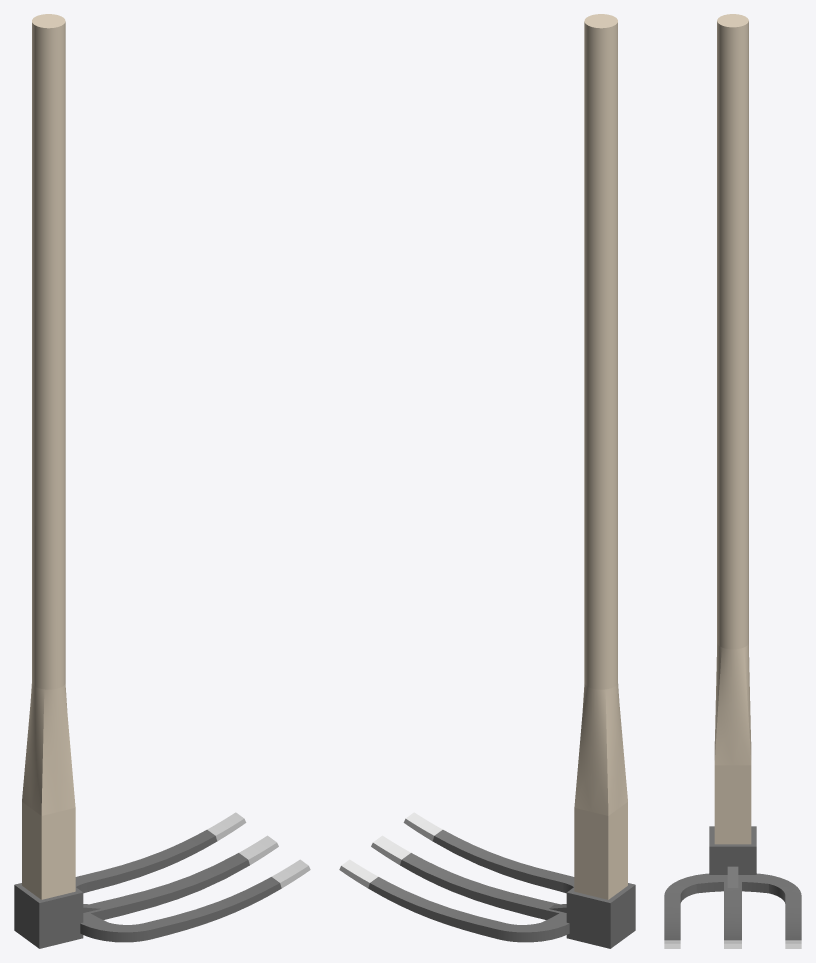
Rendered from 963_hoe_bicchu.glb.
The picture shows the model from 3 angles, left to right: view 1: azimuth 30°, elevation 25°; view 2: azimuth 150°, elevation 25°; view 3: azimuth 270°, elevation 25°; orthographic projection. The views are drawn at different scales.
Visible parts, largest first — view 1: Body5; view 2: Body5; view 3: Body5.
Boxes of the visible parts, x1=… form: Body5: x1=14, y1=14, x2=310, y2=948; Body5: x1=339, y1=14, x2=635, y2=948; Body5: x1=664, y1=14, x2=801, y2=948.
Bounding box in the file's own units: 0.2544 × 0.9 × 0.13.
